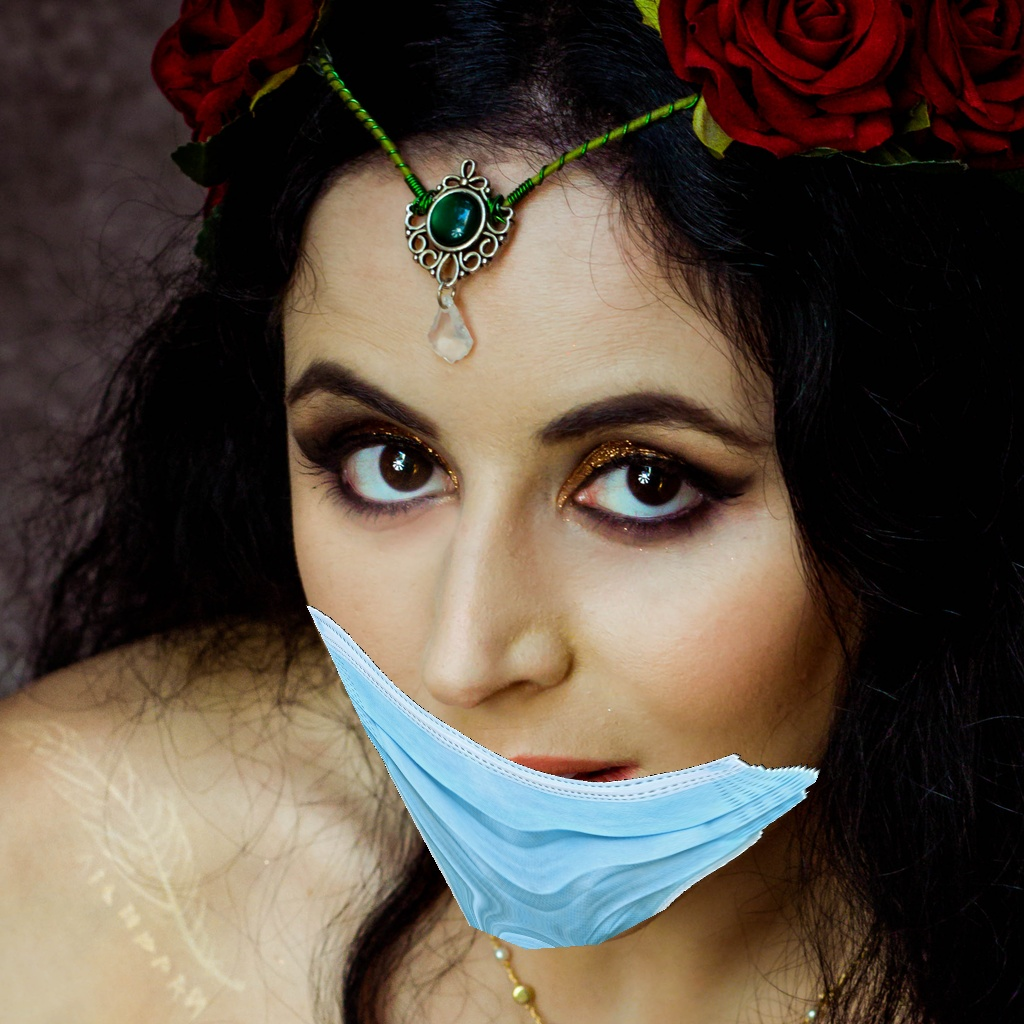mascarilla_mal_puesta: (244, 538, 857, 990)
